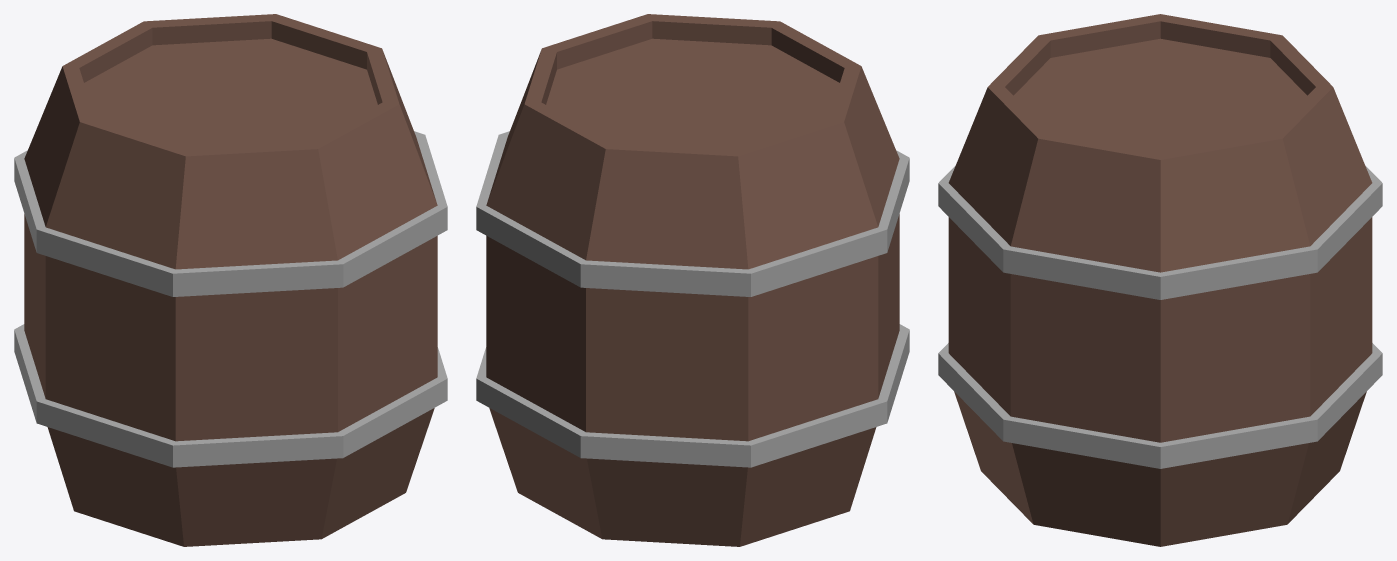
The model's file is Barrel.fbx.
3 views of the same model, side by side, from view 1: azimuth 30°, elevation 25°; view 2: azimuth 150°, elevation 25°; view 3: azimuth 270°, elevation 25° (orthographic).
Visible parts, largest first — view 1: barrel; view 2: barrel; view 3: barrel.
Boxes of the visible parts, left/top/right/bottom form: barrel: left=14, top=14, right=447, bottom=546; barrel: left=476, top=14, right=909, bottom=546; barrel: left=938, top=14, right=1382, bottom=546.
Bounding box in the file's own units: 0.4008 × 0.3822 × 0.4008.
